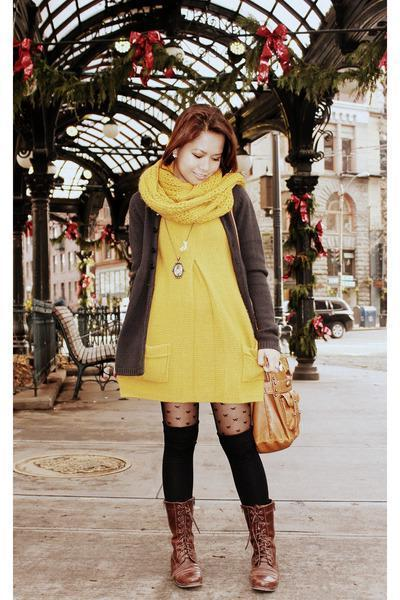dress: (111, 176, 269, 405)
sweater: (113, 185, 283, 377)
